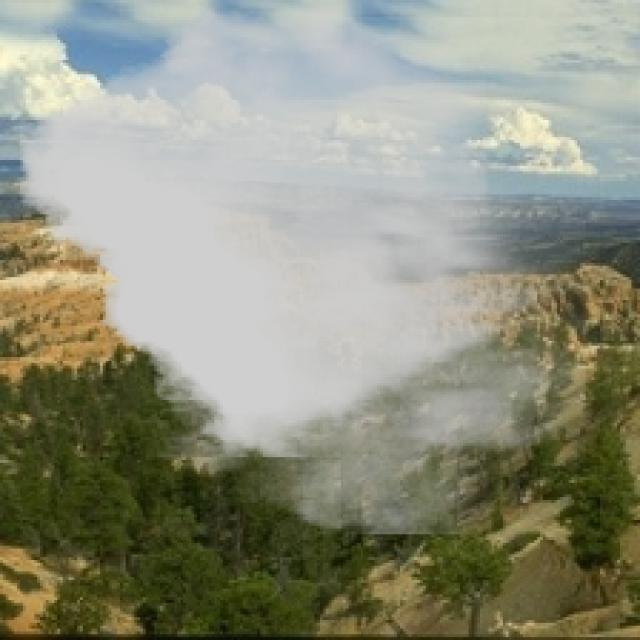Smoke: (20, 0, 586, 535)
